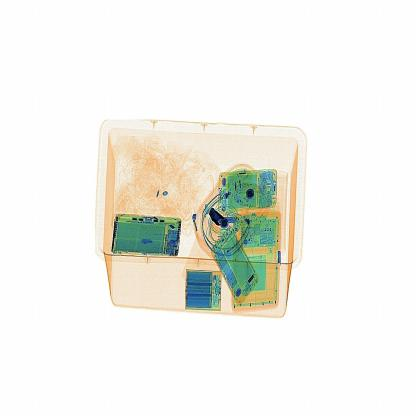pliers: (206, 202, 239, 242)
